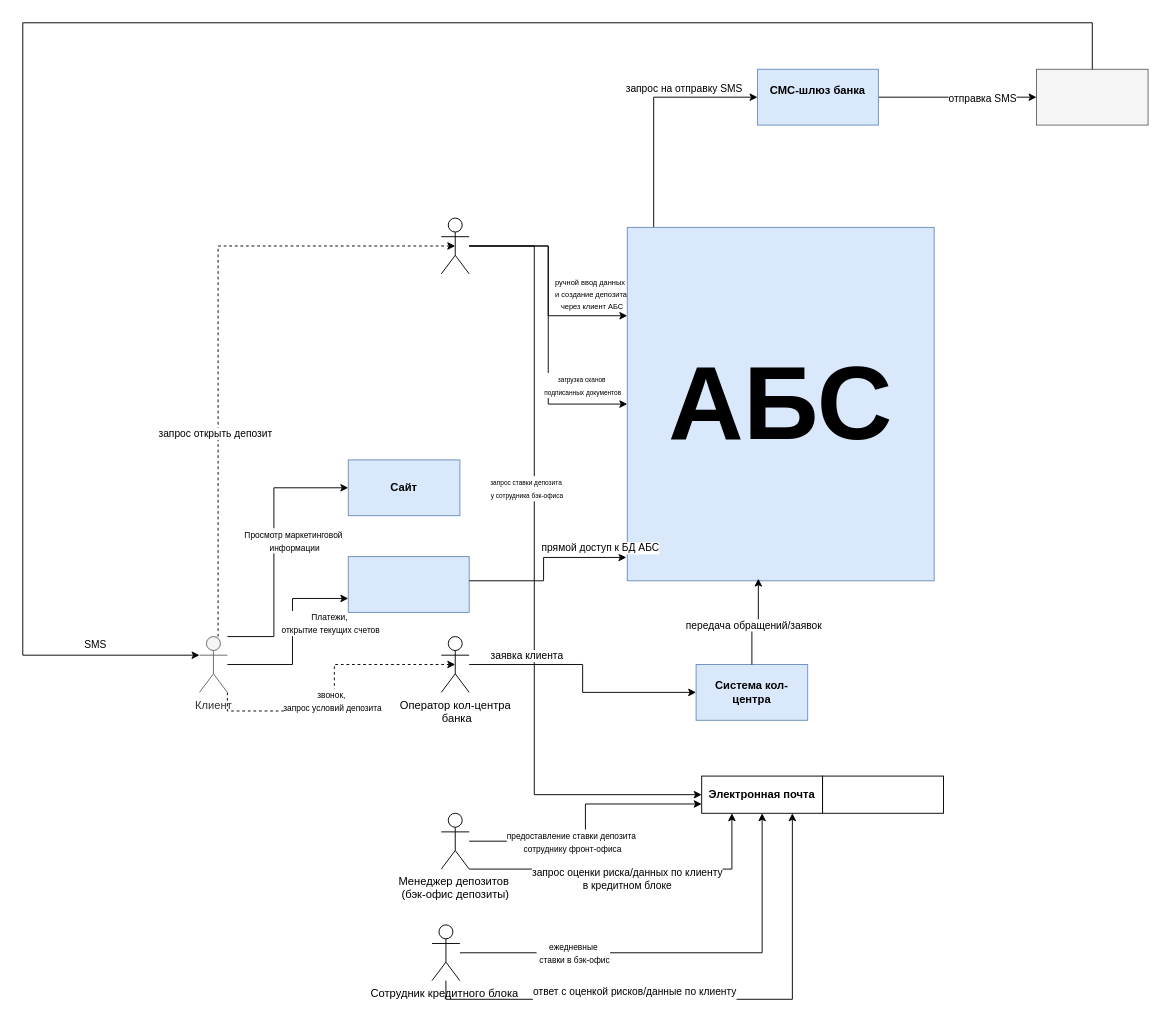
Some shapes in this 1164 by 1030 pixel diagram are drawn without their labels. The centre of each missing label's shape, as x and y in pixels:
Excel: (x=882, y=794)
Интернет-банк: (x=408, y=584)
Сотрудник отделения (фронт-офис): (x=454, y=245)
Телеком-оператор (СМС): (x=1092, y=96)
